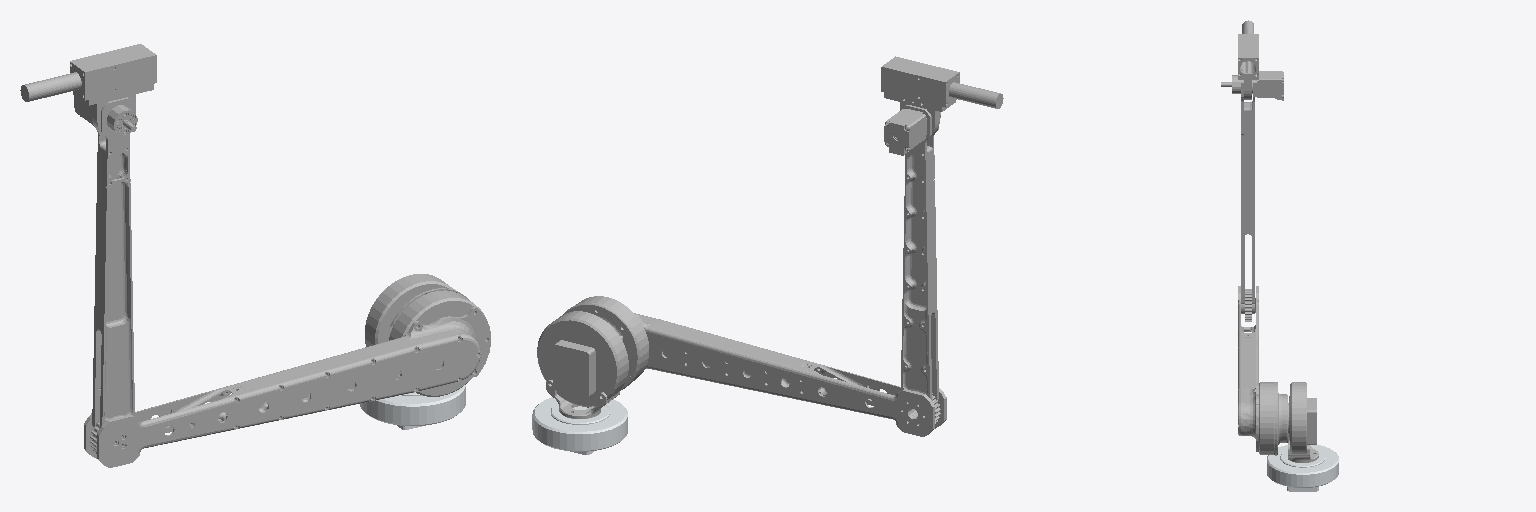
robot.urdf — agrobot_arm_v2:
<?xml version="1.0" encoding="utf-8"?>
<!-- This URDF was automatically created by SolidWorks to URDF Exporter! Originally created by [author] ([email redacted]) 
     Commit Version: 1.5.1-0-g916b5db  Build Version: 1.5.7152.31018
     For more information, please see http://wiki.ros.org/sw_urdf_exporter -->
<robot
  name="agrobot_arm_v2">
  <link 
    name="world"/>
  <joint name="fixed" type="fixed">
    <parent link="world"/>
    <child link="base_link"/>
  </joint>

  <!-- LINK_1 -->

  <link
    name="base_link">
    <inertial>
      <origin
        xyz="0.000436171551697616 1.48891690692541E-19 -0.0155275958217516"
        rpy="0 0 0" />
      <mass
        value="0.480002642136441" />
      <inertia
        ixx="0.000294919146587454"
        ixy="-1.65360965693198E-21"
        ixz="4.14888231933558E-06"
        iyy="0.000299724079619861"
        iyz="6.81230173370342E-22"
        izz="0.000514960431561791" />
    </inertial>
    <visual>
      <origin
        xyz="0 0 0"
        rpy="0 0 0" />
      <geometry>
        <mesh
          filename="package://agrobot_arm_v2/meshes/base_link.STL" />
      </geometry>
      <material
        name="">
        <color
          rgba="0.898039215686275 0.917647058823529 0.929411764705882 1" />
      </material>
    </visual>
    <collision>
      <origin
        xyz="0 0 0"
        rpy="0 0 0" />
      <geometry>
        <mesh
          filename="package://agrobot_arm_v2/meshes/base_link.STL" />
      </geometry>
    </collision>
  </link>

  <link
    name="Link_1">
    <inertial>
      <origin
        xyz="2.74225442931497E-06 -0.00353778613018245 0.0515804512927737"
        rpy="0 0 0" />
      <mass
        value="0.507852532624306" />
      <inertia
        ixx="0.000305049101665729"
        ixy="1.46296943748327E-09"
        ixz="-1.23302173450347E-08"
        iyy="0.000527056723286848"
        iyz="4.68473207349431E-06"
        izz="0.000309137354236652" />
    </inertial>
    <visual>
      <origin
        xyz="0 0 0"
        rpy="0 0 0" />
      <geometry>
        <mesh
          filename="package://agrobot_arm_v2/meshes/Link_1.STL" />
      </geometry>
      <material
        name="">
        <color
          rgba="0.752941176470588 0.752941176470588 0.752941176470588 1" />
      </material>
    </visual>
    <collision>
      <origin
        xyz="0 0 0"
        rpy="0 0 0" />
      <geometry>
        <mesh
          filename="package://agrobot_arm_v2/meshes/Link_1.STL" />
      </geometry>
    </collision>
  </link>

  <joint
    name="Joint_1"
    type="revolute">
    <origin
      xyz="0 0 0"
      rpy="0 0 0" />
    <parent
      link="base_link" />
    <child
      link="Link_1" />
    <axis
      xyz="0 0 1" />
    <limit
      lower="-3.1415"
      upper="3.1415"
      effort="17"
      velocity="40" />
    <dynamics
      friction="0.09"/>
  </joint>

  <transmission name="trans_Joint_1">
    <type>transmission_interface/SimpleTransmission</type>
    <joint name="Joint_1">
        <hardwareInterface>hardware_interface/EffortJointInterface</hardwareInterface>
    </joint>
    <actuator name="motor_Joint_1">
        <hardwareInterface>hardware_interface/EffortJointInterface</hardwareInterface>
        <mechanicalReduction>1</mechanicalReduction>
    </actuator>
  </transmission>

  <!-- LINK_2 -->

  <link
    name="Link_2">
    <inertial>
      <origin
        xyz="0.058405779904307 2.0203040740352E-08 0.0339456863545732"
        rpy="0 0 0" />
      <mass
        value="0.81308899959476" />
      <inertia
        ixx="0.000388392439322651"
        ixy="-9.54214032854378E-10"
        ixz="1.27795112061735E-05"
        iyy="0.00467218660610504"
        iyz="-8.84832562194152E-11"
        izz="0.00496730197895087" />
    </inertial>
    <visual>
      <origin
        xyz="0 0 0"
        rpy="0 0 0" />
      <geometry>
        <mesh
          filename="package://agrobot_arm_v2/meshes/Link_2.STL" />
      </geometry>
      <material
        name="">
        <color
          rgba="0.752941176470588 0.752941176470588 0.752941176470588 1" />
      </material>
    </visual>
    <collision>
      <origin
        xyz="0 0 0"
        rpy="0 0 0" />
      <geometry>
        <mesh
          filename="package://agrobot_arm_v2/meshes/Link_2.STL" />
      </geometry>
    </collision>
  </link>

  <joint
    name="Joint_2"
    type="revolute">
    <origin
      xyz="0 -0.019 0.0545"
      rpy="-1.5707963267949 0 3.14159265358979" />
    <parent
      link="Link_1" />
    <child
      link="Link_2" />
    <axis
      xyz="0 0 1" />
    <limit
      lower="-3.1415"
      upper="0"
      effort="17"
      velocity="40" />
    <dynamics
      friction="0.09"/>
  </joint>

  <transmission name="trans_Joint_2">
    <type>transmission_interface/SimpleTransmission</type>
    <joint name="Joint_2">
        <hardwareInterface>hardware_interface/EffortJointInterface</hardwareInterface>
    </joint>
    <actuator name="motor_Joint_2">
        <hardwareInterface>hardware_interface/EffortJointInterface</hardwareInterface>
        <mechanicalReduction>1</mechanicalReduction>
    </actuator>
  </transmission>

  <!-- LINK_3 -->

  <link
    name="Link_3">
    <inertial>
      <origin
        xyz="0.232598222729073 -9.20818372995846E-07 -0.00955342978657184"
        rpy="0 0 0" />
      <mass
        value="0.336944931620173" />
      <inertia
        ixx="3.67648841212008E-05"
        ixy="-9.59389619481419E-11"
        ixz="-1.81657115526022E-06"
        iyy="0.00138520509069701"
        iyz="2.76629218451524E-12"
        izz="0.00140450563412969" />
    </inertial>
    <visual>
      <origin
        xyz="0 0 0"
        rpy="0 0 0" />
      <geometry>
        <mesh
          filename="package://agrobot_arm_v2/meshes/Link_3.STL" />
      </geometry>
      <material
        name="">
        <color
          rgba="0.752941176470588 0.752941176470588 0.752941176470588 1" />
      </material>
    </visual>
    <collision>
      <origin
        xyz="0 0 0"
        rpy="0 0 0" />
      <geometry>
        <mesh
          filename="package://agrobot_arm_v2/meshes/Link_3.STL" />
      </geometry>
    </collision>
  </link>

  <joint
    name="Joint_3"
    type="revolute">
    <origin
      xyz="0.352 0 0.05275"
      rpy="0 0 -1.5708" />
    <parent
      link="Link_2" />
    <child
      link="Link_3" />
    <axis
      xyz="0 0 1" />
    <limit
      lower="-1.0472"
      upper="2.6"
      effort="17"
      velocity="40" />
    <dynamics
      friction="0.09"/>
  </joint>

  <transmission name="trans_Joint_3">
    <type>transmission_interface/SimpleTransmission</type>
    <joint name="Joint_3">
        <hardwareInterface>hardware_interface/EffortJointInterface</hardwareInterface>
    </joint>
    <actuator name="motor_Joint_3">
        <hardwareInterface>hardware_interface/EffortJointInterface</hardwareInterface>
        <mechanicalReduction>1</mechanicalReduction>
    </actuator>
  </transmission>

  <!-- LINK_4 -->

  <link
    name="Link_4">
    <inertial>
      <origin
        xyz="0.0322792079054944 0.0215434702240224 1.30818635455249E-05"
        rpy="0 0 0" />
      <mass
        value="0.213921465907275" />
      <inertia
        ixx="5.72875335800106E-05"
        ixy="-2.1737619349779E-09"
        ixz="-2.22685486617804E-08"
        iyy="2.96741933821847E-05"
        iyz="1.83334792134304E-09"
        izz="6.54238610234211E-05" />
    </inertial>
    <visual>
      <origin
        xyz="0 0 0"
        rpy="0 0 0" />
      <geometry>
        <mesh
          filename="package://agrobot_arm_v2/meshes/Link_4.STL" />
      </geometry>
      <material
        name="">
        <color
          rgba="0.752941176470588 0.752941176470588 0.752941176470588 1" />
      </material>
    </visual>
    <collision>
      <origin
        xyz="0 0 0"
        rpy="0 0 0" />
      <geometry>
        <mesh
          filename="package://agrobot_arm_v2/meshes/Link_4.STL" />
      </geometry>
    </collision>
  </link>

  <joint
    name="Joint_4"
    type="revolute">
    <origin
      xyz="0.32 0 0"
      rpy="0 0 0" />
    <parent
      link="Link_3" />
    <child
      link="Link_4" />
    <axis
      xyz="0 0 1" />
    <limit
      lower="-1.571"
      upper="1.571"
      effort="2.268"
      velocity="0.319" />
    <dynamics
      friction="0.09"/>
  </joint>

  <transmission name="trans_Joint_4">
    <type>transmission_interface/SimpleTransmission</type>
    <joint name="Joint_4">
        <hardwareInterface>hardware_interface/VelocityJointInterface</hardwareInterface>
    </joint>
    <actuator name="motor_Joint_4">
        <hardwareInterface>hardware_interface/VelocityJointInterface</hardwareInterface>
        <mechanicalReduction>1</mechanicalReduction>
    </actuator>
  </transmission>

  <gazebo>
    <plugin name="gazebo_ros_control" filename="libgazebo_ros_control.so">
    </plugin>
  </gazebo>

</robot>

--- What the picture shows (computed from the rendered views, not written in the file) ---
Views: 3 orthographic renders of the robot side by side, from view 1: azimuth 30°, elevation 25°; view 2: azimuth 150°, elevation 25°; view 3: azimuth 270°, elevation 25°.
Robot: agrobot_arm_v2 — 6 links, 5 joints (4 revolute, 1 fixed); root link world; default pose: all joints at 0.
Visible links, largest first — view 1: Link_2, Link_3, Link_4, base_link, Link_1; view 2: Link_2, Link_3, Link_1, Link_4, base_link; view 3: Link_2, Link_3, base_link, Link_1, Link_4.
Boxes of the visible links, x1=… form: Link_2: x1=84, y1=288, x2=490, y2=467; Link_3: x1=74, y1=95, x2=137, y2=453; Link_4: x1=20, y1=44, x2=156, y2=133; base_link: x1=360, y1=385, x2=465, y2=429; Link_1: x1=365, y1=274, x2=455, y2=346; Link_2: x1=563, y1=296, x2=946, y2=436; Link_3: x1=884, y1=105, x2=940, y2=423; Link_1: x1=537, y1=311, x2=628, y2=418; Link_4: x1=881, y1=56, x2=1003, y2=136; base_link: x1=532, y1=397, x2=627, y2=454; Link_2: x1=1238, y1=286, x2=1287, y2=455; Link_3: x1=1221, y1=71, x2=1283, y2=321; base_link: x1=1267, y1=445, x2=1338, y2=491; Link_1: x1=1288, y1=382, x2=1318, y2=462; Link_4: x1=1238, y1=20, x2=1258, y2=99.
Bounding box of the posed robot: 0.493 × 0.1559 × 0.4678 m (x, y, z).
Meshes: 5 distinct files referenced, 5 mesh visuals loaded (5 binary STL).
